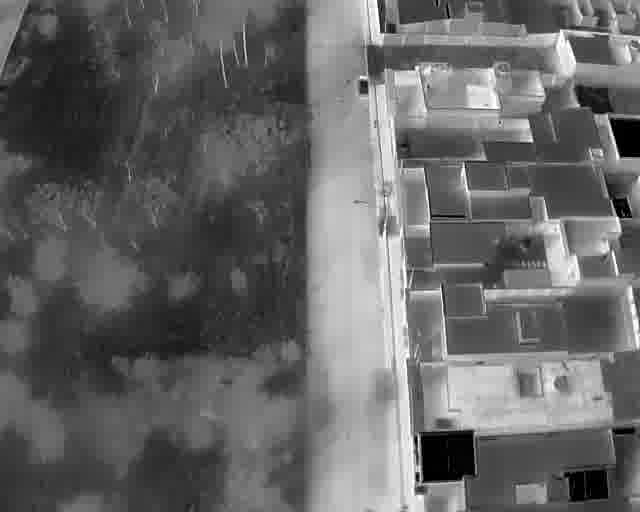car: (362, 256, 380, 287)
